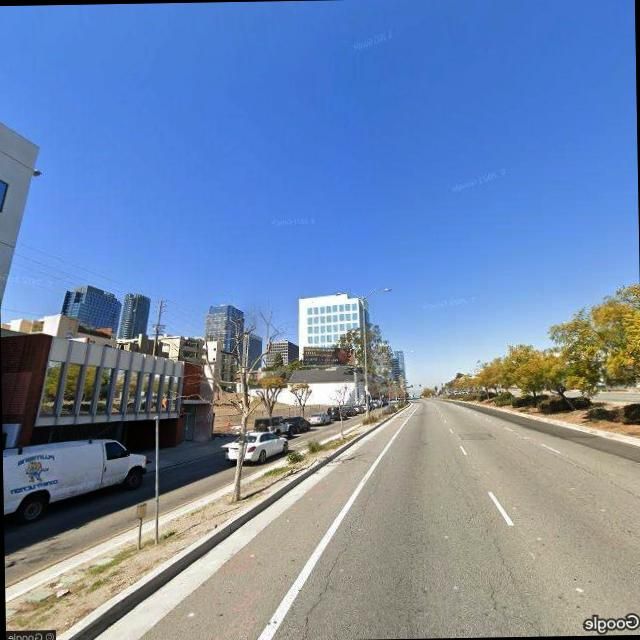pothole: (282, 489, 378, 637), (462, 494, 546, 634)
